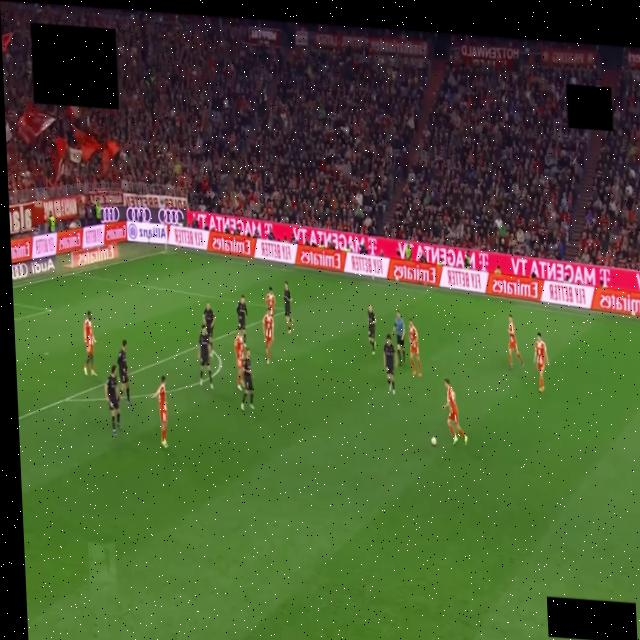ball: (431, 438, 435, 446)
player: (442, 378, 467, 445), (150, 376, 166, 448), (104, 366, 120, 435), (532, 332, 550, 393), (198, 324, 213, 388), (117, 340, 130, 404), (508, 315, 523, 369), (240, 349, 253, 410), (83, 311, 95, 375), (202, 302, 215, 357), (408, 318, 420, 376), (383, 335, 394, 395), (262, 310, 273, 363), (234, 332, 244, 390), (236, 295, 246, 343), (283, 282, 292, 332), (368, 304, 375, 354), (265, 286, 275, 314)
referee: (393, 310, 404, 365)
